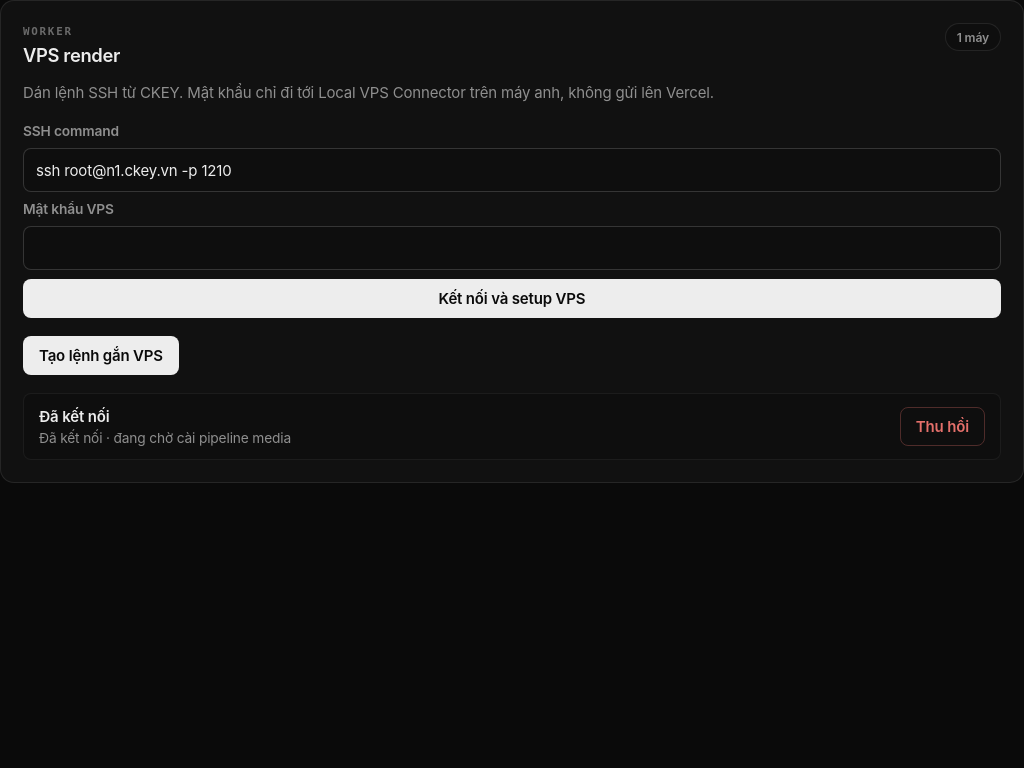
Test: WorkerCard › clears the enrollment command and refreshes parent state after a successful revoke
Click the button "Tạo lệnh gắn VPS". click: (101, 356)
box: [23,336,179,375]
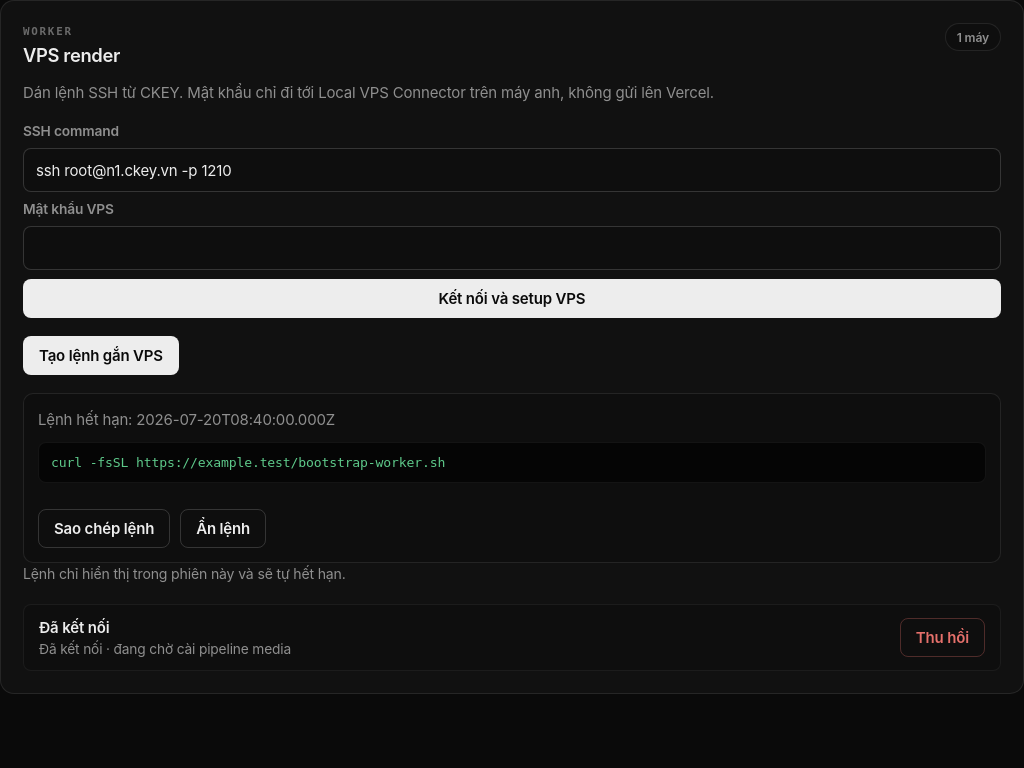
Expected: the text "curl -fsSL https://example.test/bootstrap-worker.sh" is shown, [38,442,986,483]
Click the button "Thu hồi". click: (942, 637)
box: [900,618,985,657]
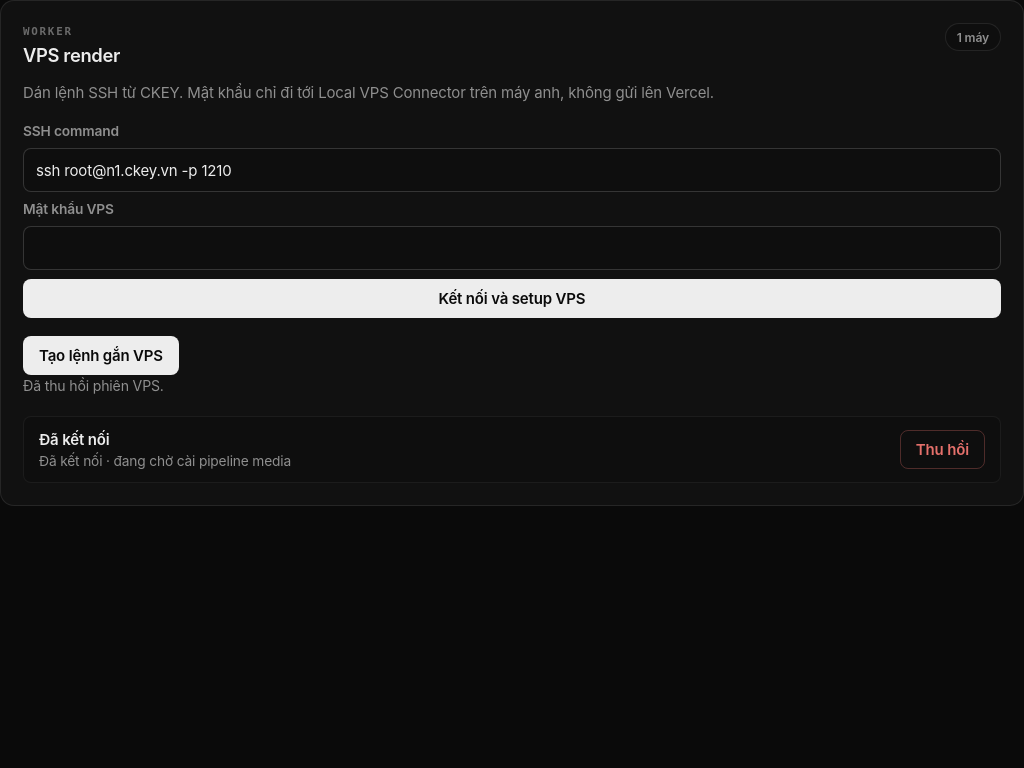
Expected: the text "Đã thu hồi phiên VPS." is shown, [23,377,164,394]
Expected: the text "curl -fsSL https://example.test/bootstrap-worker.sh" is gone
